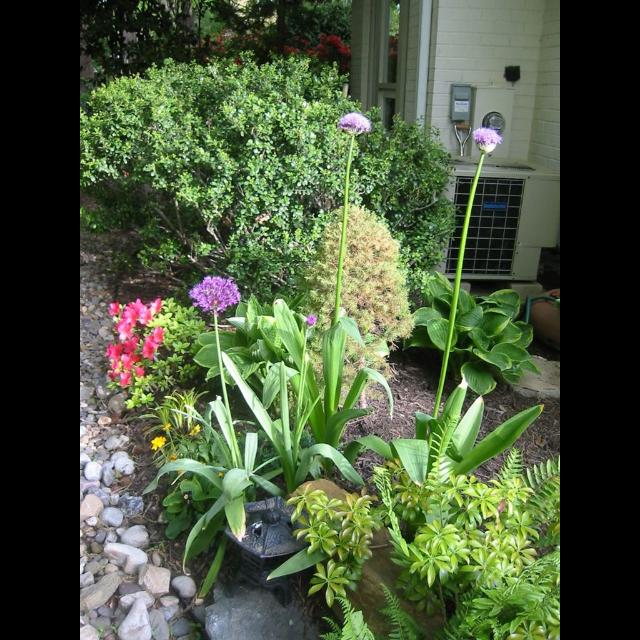Flower: (106, 294, 170, 390), (148, 416, 210, 478), (188, 274, 242, 318), (334, 110, 370, 140), (470, 124, 504, 154), (304, 312, 320, 330)
